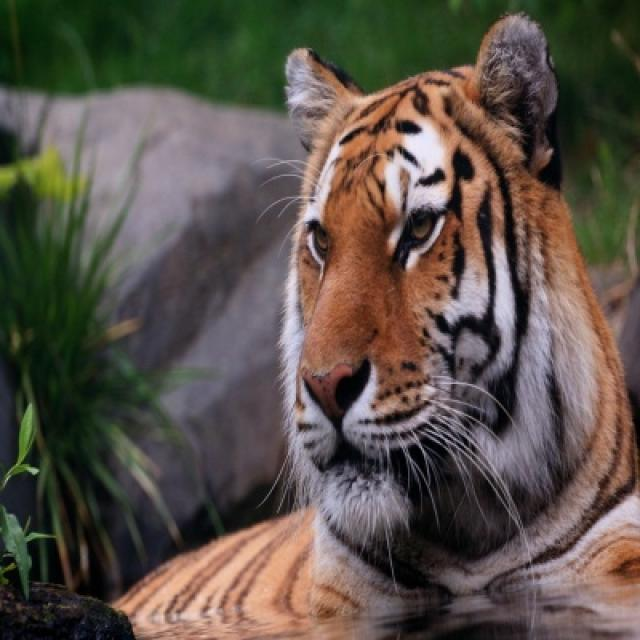Tiger: (114, 18, 638, 638)
